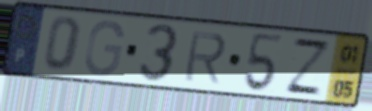0: (42, 13, 83, 75)
3: (136, 22, 182, 84)
5: (241, 30, 284, 94)
G: (82, 18, 127, 79)
R: (180, 29, 229, 86)
Z: (282, 35, 334, 99)
